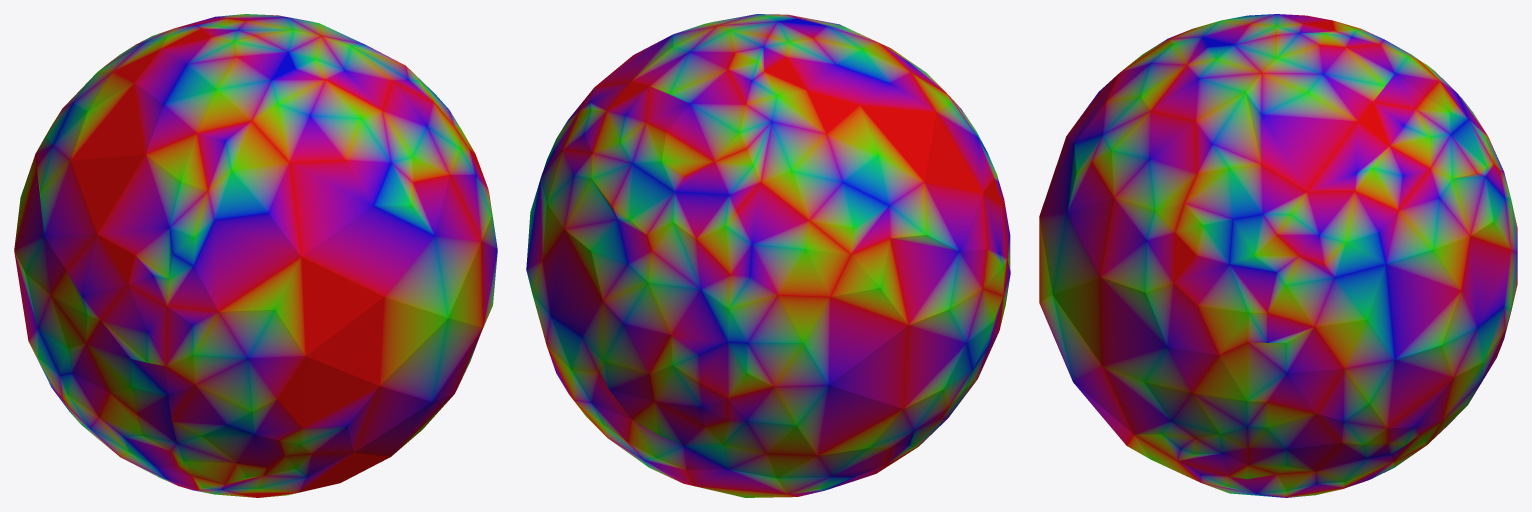
Rendered from after_decimating_reconquest_6.obj.
3 views of the same model, side by side, from view 1: azimuth 30°, elevation 25°; view 2: azimuth 150°, elevation 25°; view 3: azimuth 270°, elevation 25° (orthographic).
Size of the model in its own units: 1.99 by 2 by 1.97.
